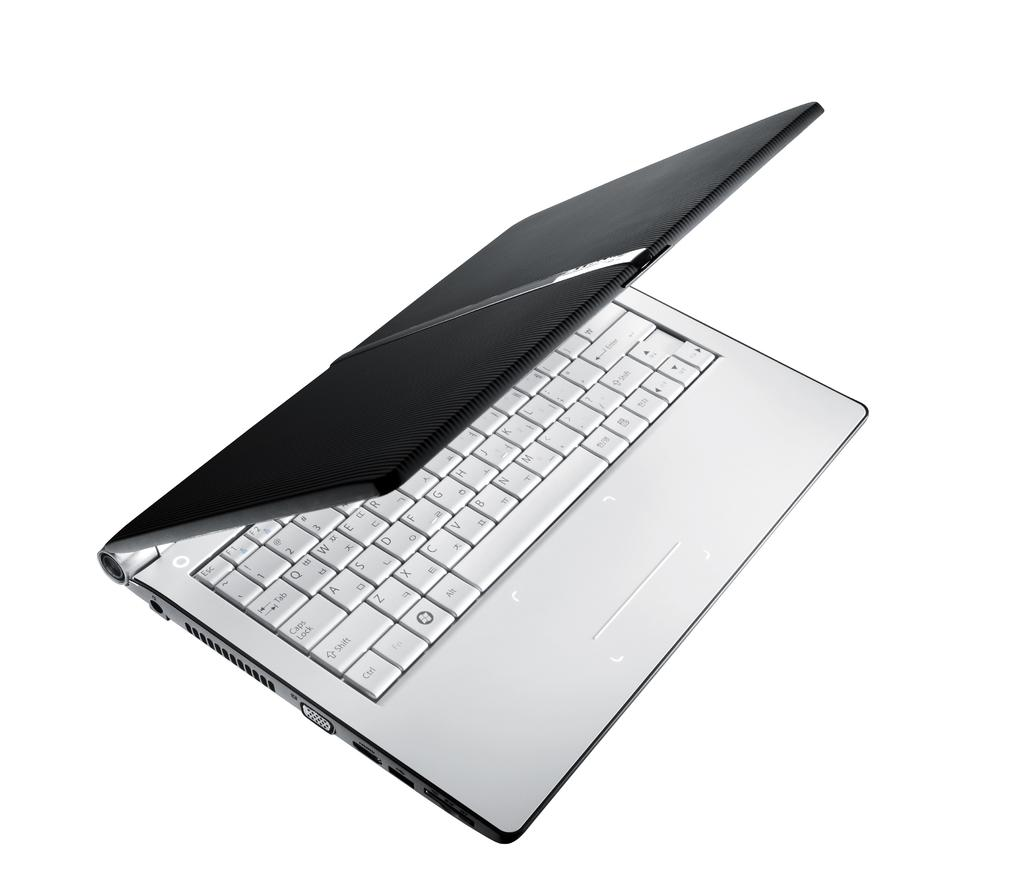Computer-keyboard: (187, 300, 719, 702)
